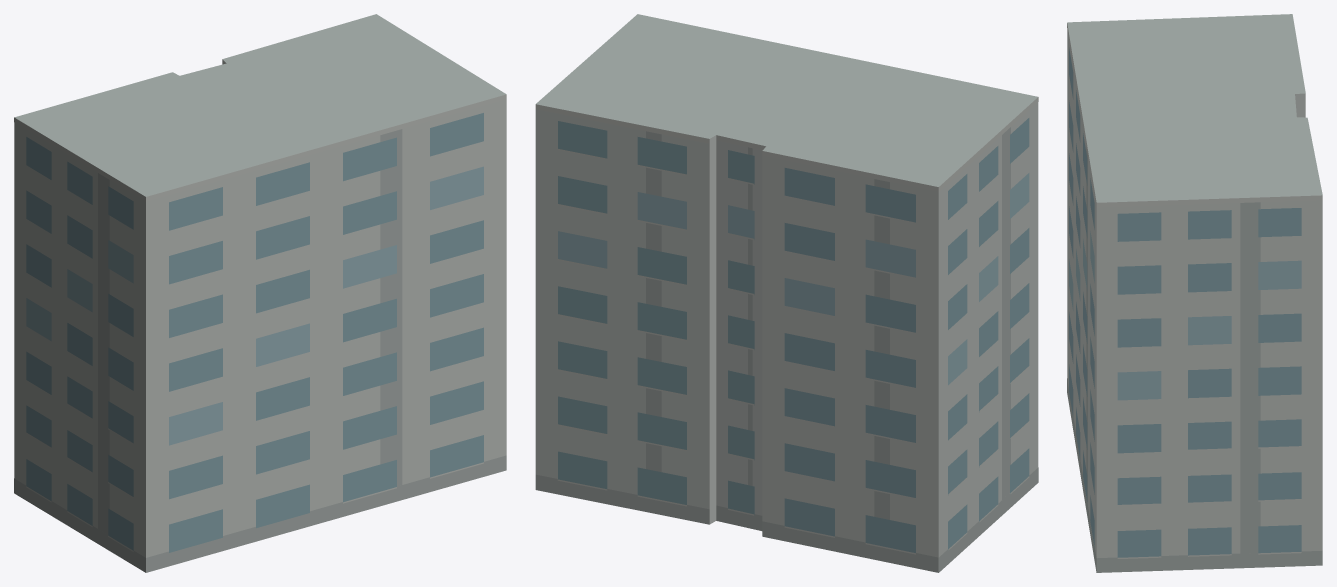
Rendered from survey-upis-33020187.glb.
The picture shows the model from 3 angles, left to right: view 1: azimuth 30°, elevation 25°; view 2: azimuth 150°, elevation 25°; view 3: azimuth 270°, elevation 25°; orthographic projection. The views are drawn at different scales.
Parts seen in each view (by area): view 1: survey-upis-33020187.tmp; view 2: survey-upis-33020187.tmp; view 3: survey-upis-33020187.tmp.
Part boxes in pixels (bbox=[...]): survey-upis-33020187.tmp: bbox=[14, 14, 506, 572]; survey-upis-33020187.tmp: bbox=[535, 14, 1038, 572]; survey-upis-33020187.tmp: bbox=[1067, 14, 1322, 572].
Size of the model in its own units: 20.36 by 18.6 by 11.66.
